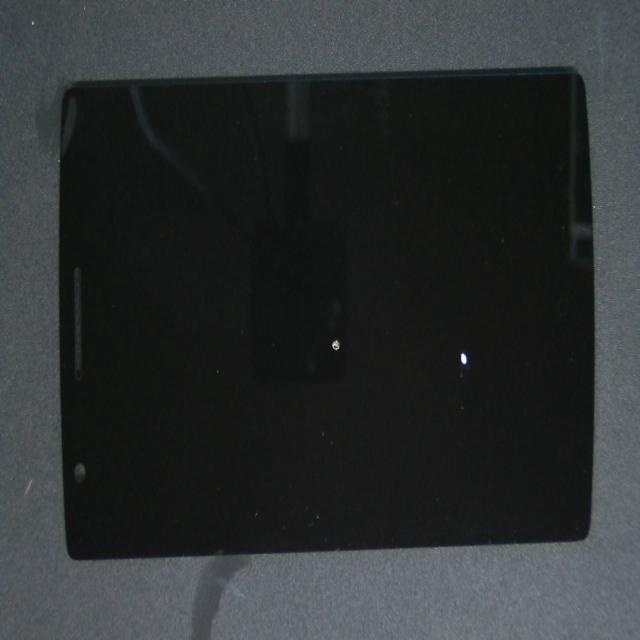stain: (244, 210, 640, 536), (159, 119, 496, 502)
